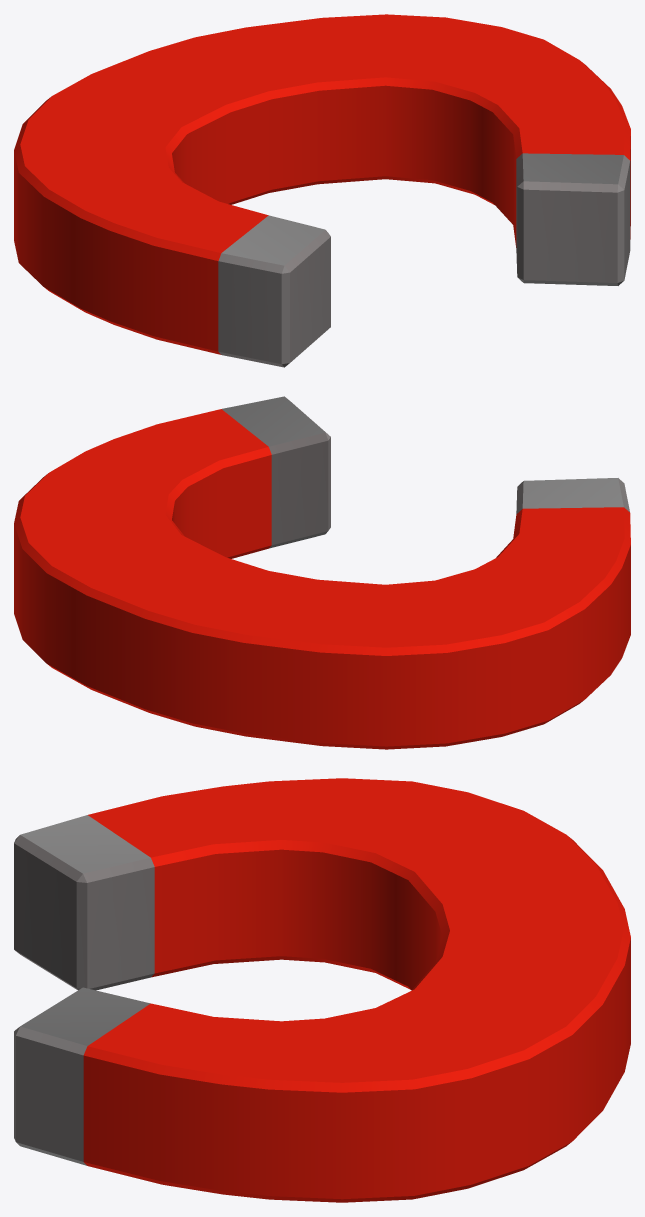
Rendered from magnet.glb.
3 renders of one model, top to bottom at view 1: azimuth 30°, elevation 25°; view 2: azimuth 150°, elevation 25°; view 3: azimuth 270°, elevation 25°, orthographic. The views are drawn at different scales.
Visible parts, largest first — view 1: magnet; view 2: magnet; view 3: magnet.
Boxes of the visible parts, left/top/right/bottom form: magnet: left=14, top=14, right=630, bottom=367; magnet: left=14, top=396, right=630, bottom=749; magnet: left=14, top=778, right=630, bottom=1202.
Bounding box in the file's own units: 1.34 × 0.2411 × 1.13.
Materials: 1 (1 with a texture image).
